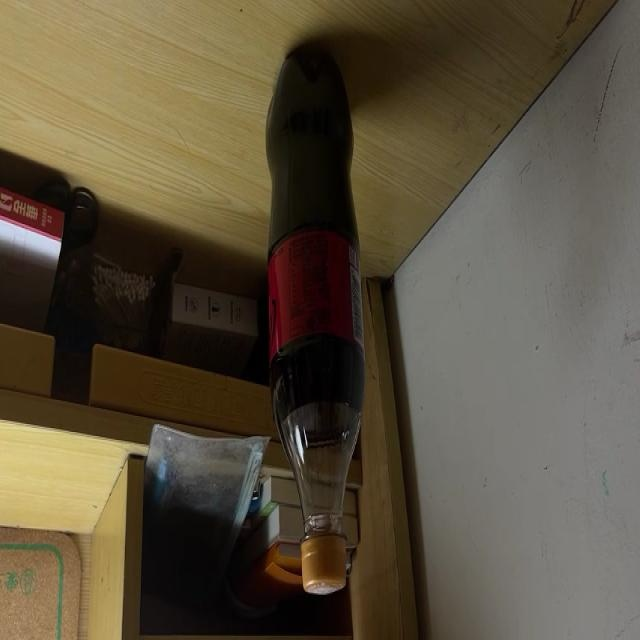Coca-Cola: (264, 42, 367, 594)
